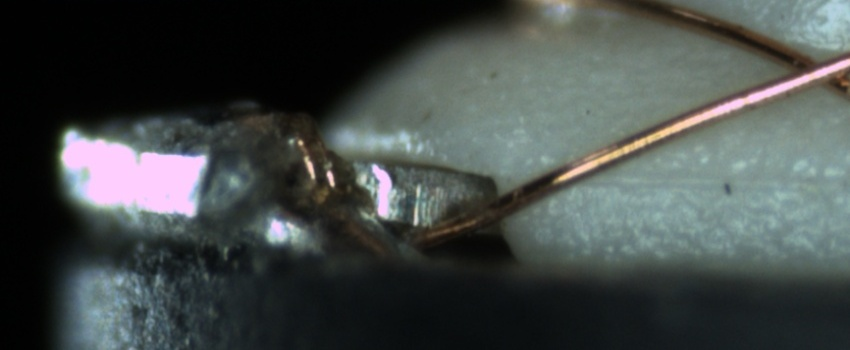CL: (758, 37, 850, 100)
DL: (570, 148, 850, 212)
TE: (273, 108, 353, 199)
